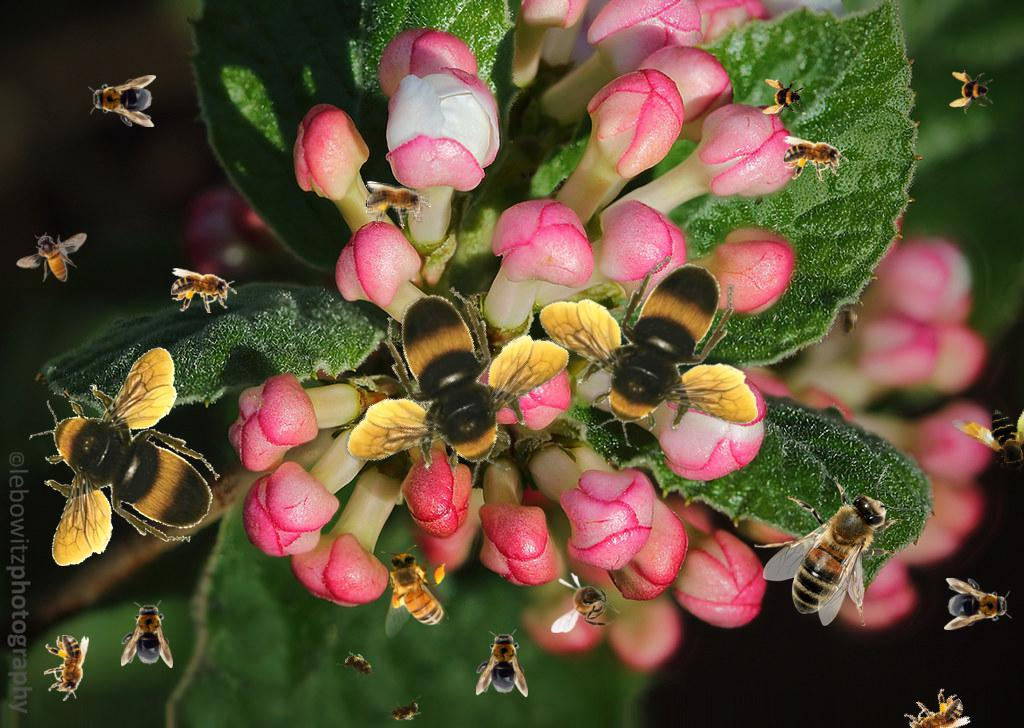Bee: (304, 248, 592, 541), (29, 346, 220, 566), (538, 256, 758, 447), (754, 464, 921, 626), (940, 372, 1024, 480), (381, 545, 449, 638), (551, 572, 621, 633), (893, 682, 973, 728), (16, 232, 87, 282), (476, 629, 528, 697), (121, 600, 173, 668), (944, 578, 1012, 630), (88, 75, 156, 127), (365, 181, 431, 226), (783, 136, 849, 181), (171, 268, 237, 313), (44, 635, 89, 701), (949, 70, 993, 114), (762, 77, 806, 121), (336, 645, 382, 687), (381, 695, 427, 727), (836, 302, 858, 342)
